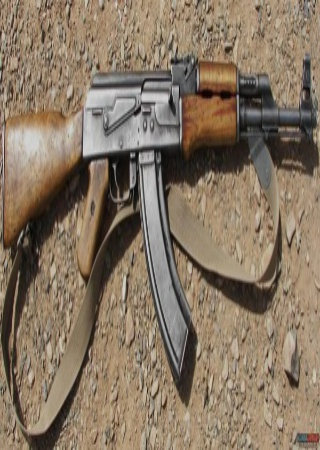rifle: (2, 49, 320, 385)
